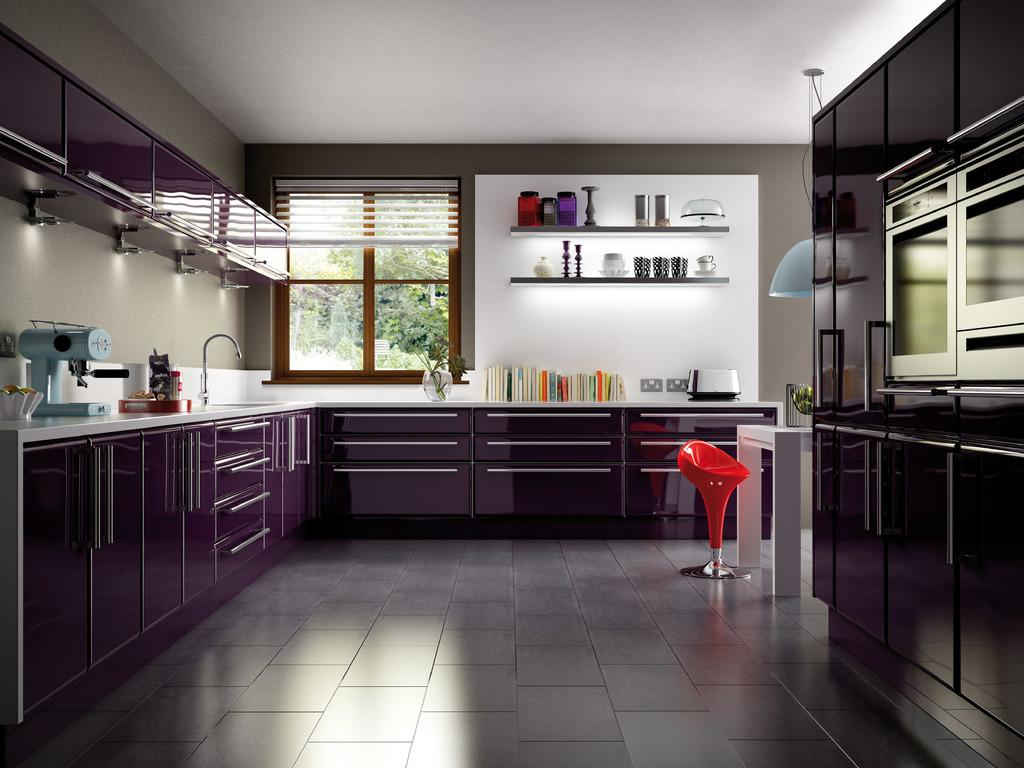cabinet_door: (952, 438, 1024, 687), (832, 103, 886, 409), (28, 442, 90, 655), (886, 456, 950, 654), (834, 436, 884, 616), (96, 439, 142, 628), (472, 464, 626, 515), (958, 13, 1024, 130), (807, 126, 833, 415), (146, 436, 190, 602), (326, 461, 470, 510), (886, 56, 950, 166), (318, 402, 472, 437), (472, 402, 623, 435), (476, 431, 622, 465), (326, 436, 472, 465), (193, 430, 217, 584), (276, 412, 306, 522), (620, 407, 756, 430), (814, 425, 834, 580), (301, 404, 327, 520), (621, 456, 681, 502), (216, 530, 274, 566), (215, 413, 271, 449), (221, 455, 269, 496), (220, 495, 270, 528), (625, 434, 684, 458)
handle: (950, 102, 1018, 143), (862, 316, 892, 408), (942, 452, 966, 563), (876, 145, 931, 189), (484, 432, 614, 450), (638, 406, 768, 424), (809, 324, 836, 406), (86, 444, 104, 552), (856, 442, 878, 524), (332, 408, 460, 422), (486, 409, 614, 422), (332, 464, 457, 477), (874, 442, 892, 532), (640, 437, 738, 452), (105, 442, 119, 545), (484, 467, 614, 478), (226, 522, 276, 548), (812, 438, 830, 506), (184, 430, 198, 514), (331, 438, 460, 447), (228, 418, 274, 440), (228, 488, 274, 510), (195, 428, 205, 520), (286, 416, 300, 477), (301, 414, 315, 470), (639, 464, 680, 480), (227, 458, 273, 472)
